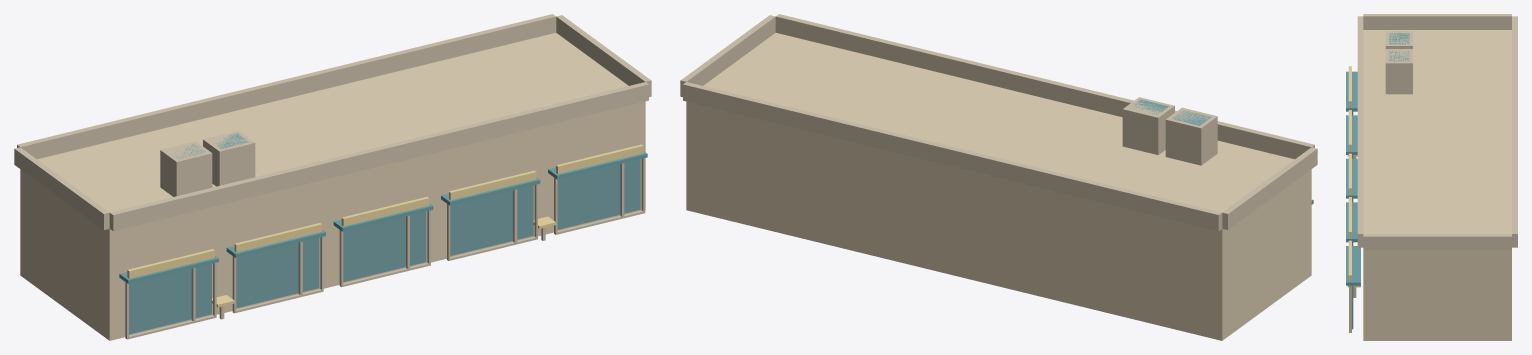
Rendered from commercial_3x1_a.glb.
The picture shows the model from 3 angles, left to right: view 1: azimuth 30°, elevation 25°; view 2: azimuth 150°, elevation 25°; view 3: azimuth 270°, elevation 25°; orthographic projection. The views are drawn at different scales.
Parts seen in each view (by area): view 1: commercial_3x1_a_0; view 2: commercial_3x1_a_0; view 3: commercial_3x1_a_0.
Part boxes in pixels (x1,y1,x2,y2): commercial_3x1_a_0: (14,14,651,340); commercial_3x1_a_0: (680,14,1317,340); commercial_3x1_a_0: (1346,14,1517,340).
Bounding box in the file's own units: 23 × 6 × 7.5.
